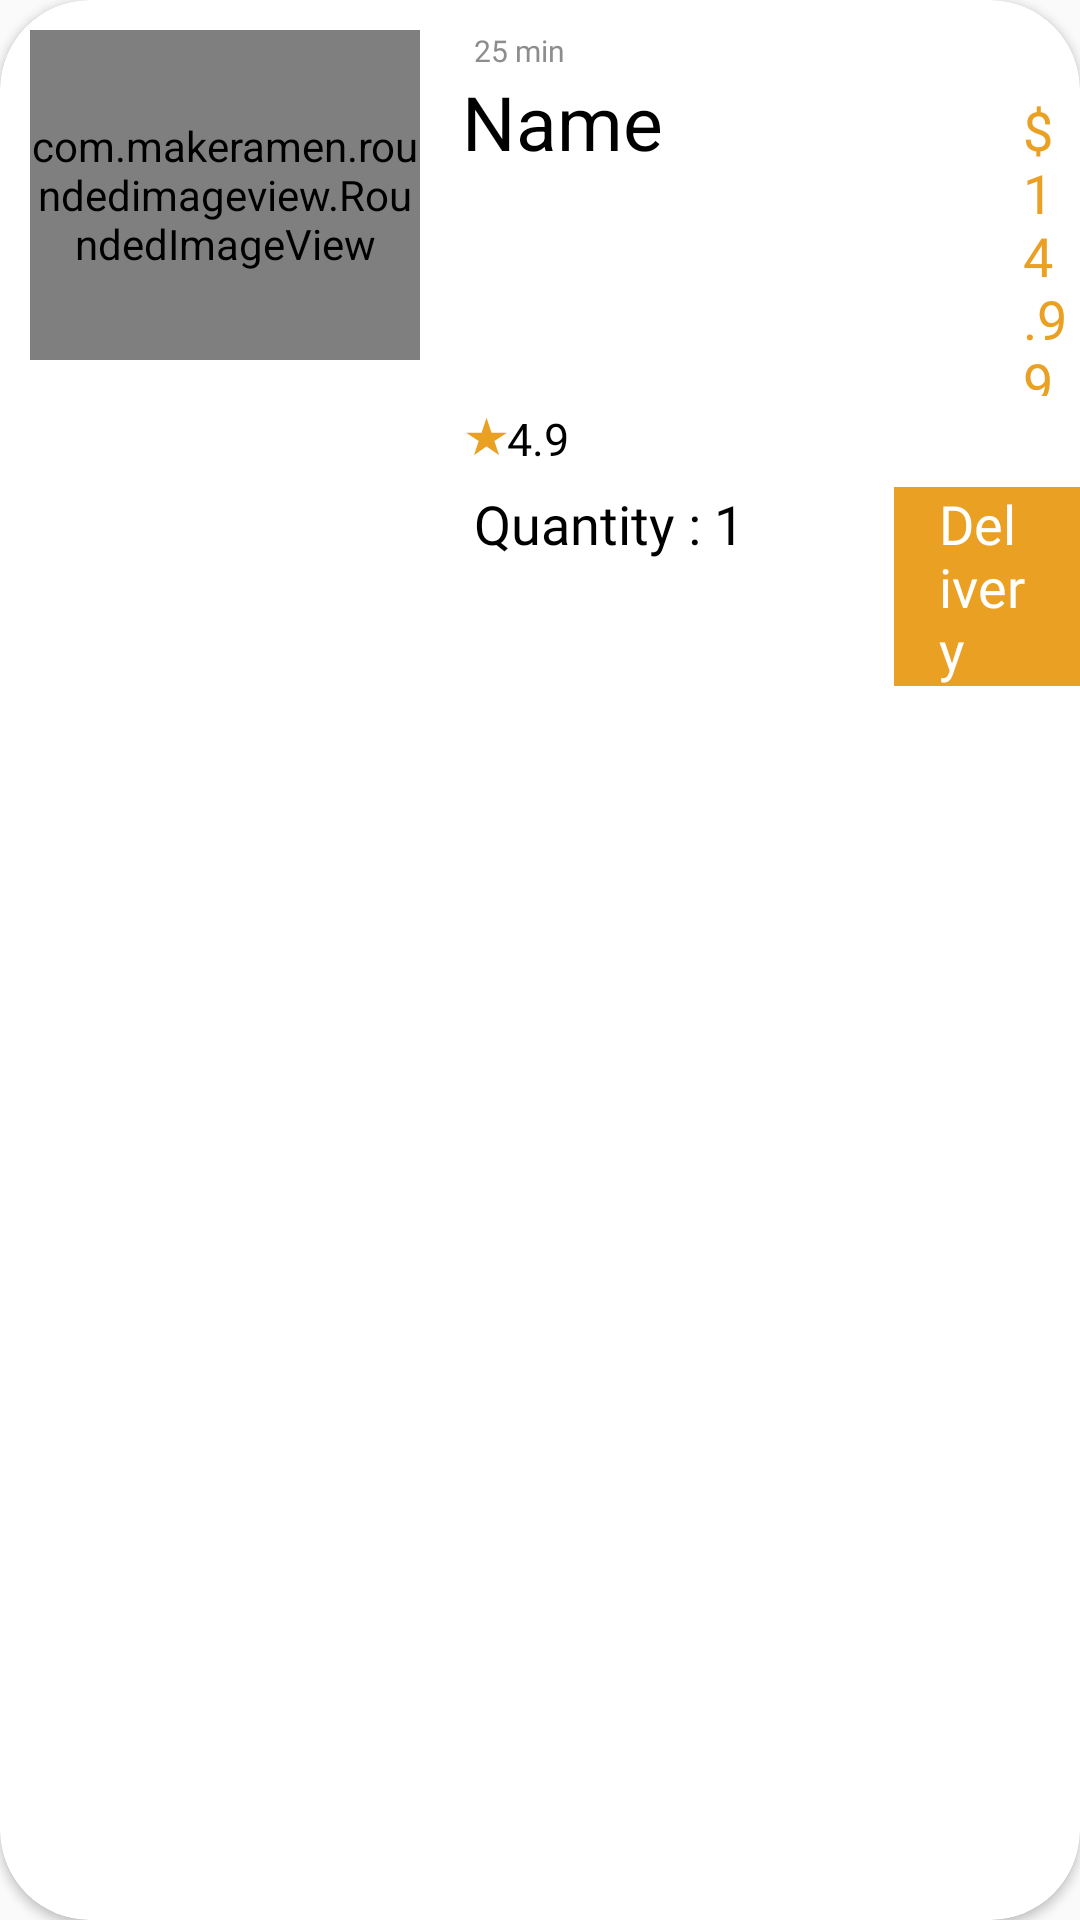

Locate icon controls on the screen. Image size 1080px×1920px, boxes as (x1,y1,x2,y2).
star rate: (466,418,507,455)
